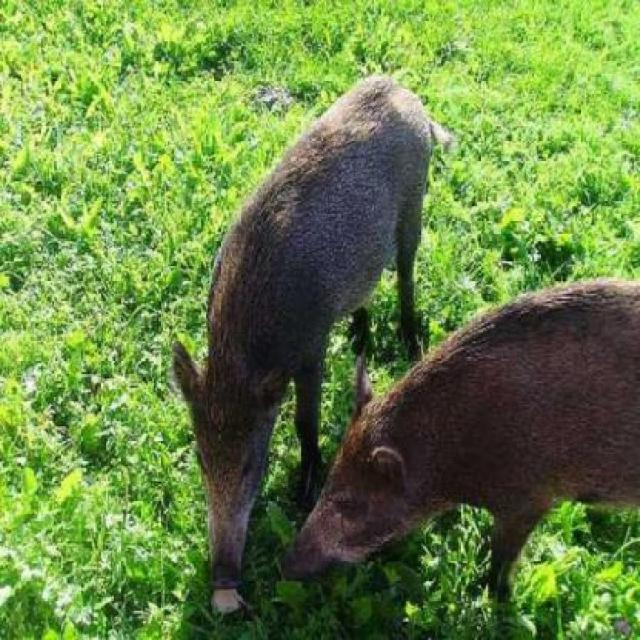pig: (110, 32, 472, 547), (288, 258, 639, 594)
